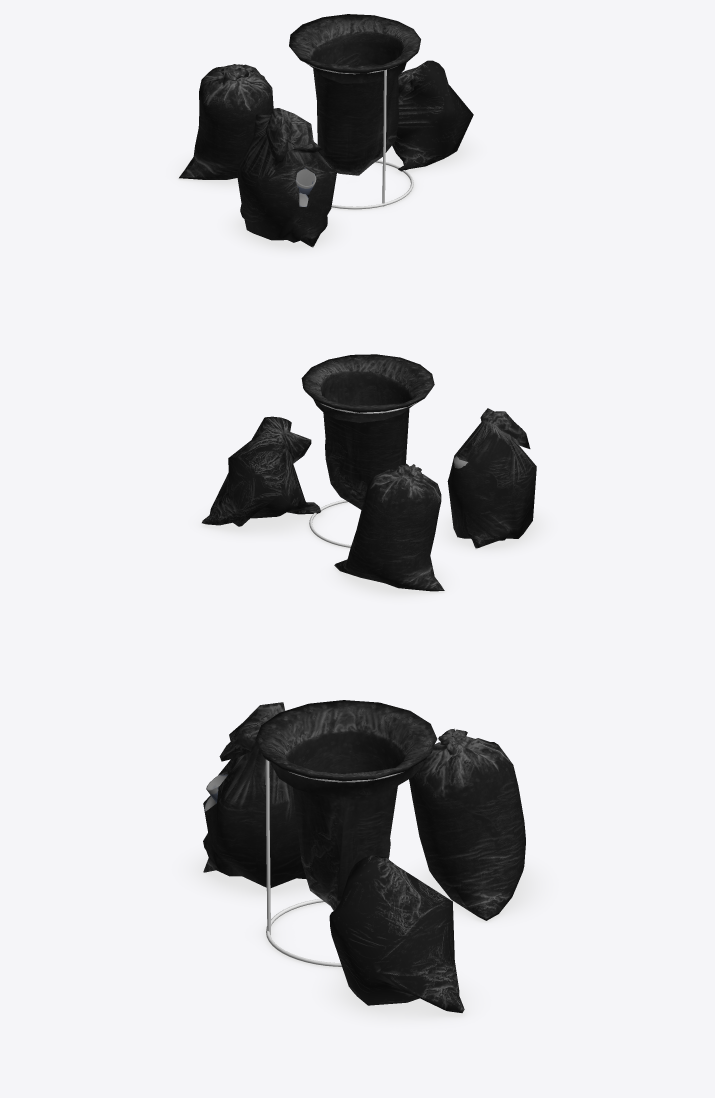
File: trash-bags-cd1342.glb
The picture shows the model from 3 angles, top to bottom: view 1: azimuth 30°, elevation 25°; view 2: azimuth 150°, elevation 25°; view 3: azimuth 270°, elevation 25°; orthographic projection. The views are drawn at different scales.
Parts seen in each view (by area): view 1: PropMesh; view 2: PropMesh; view 3: PropMesh.
Boxes of the visible parts, x1=… form: PropMesh: x1=175, y1=14, x2=477, y2=254; PropMesh: x1=197, y1=354, x2=549, y2=600; PropMesh: x1=184, y1=700, x2=547, y2=1023.
Bounding box in the file's own units: 2.2 × 0.7 × 2.2.
Materials: 6 (5 with a texture image).
